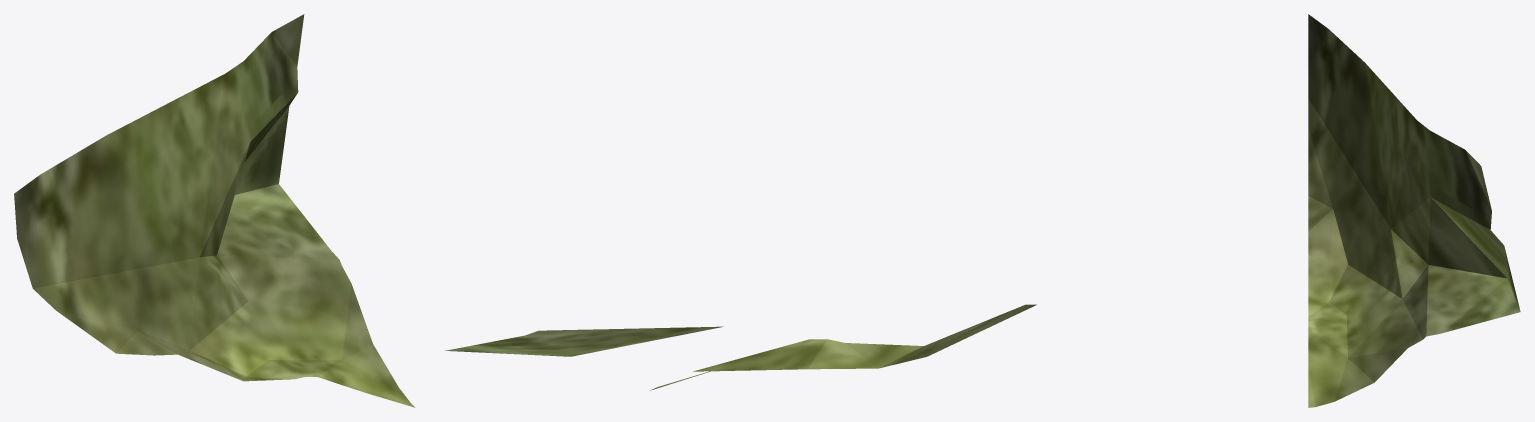
The picture shows the model from 3 angles, left to right: view 1: azimuth 30°, elevation 25°; view 2: azimuth 150°, elevation 25°; view 3: azimuth 270°, elevation 25°; orthographic projection. The views are drawn at different scales.
Bounding box in the file's own units: 1.43 × 1.06 × 0.8463.
Materials: 1 (1 with a texture image).
